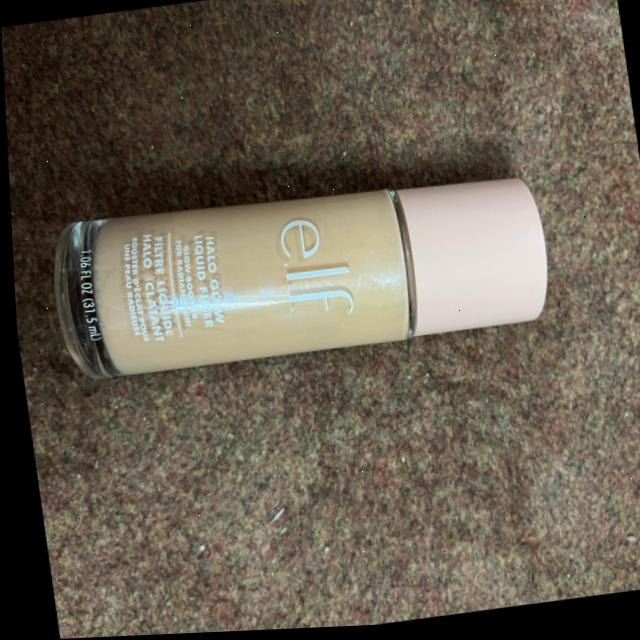concealer: (26, 150, 568, 431)
